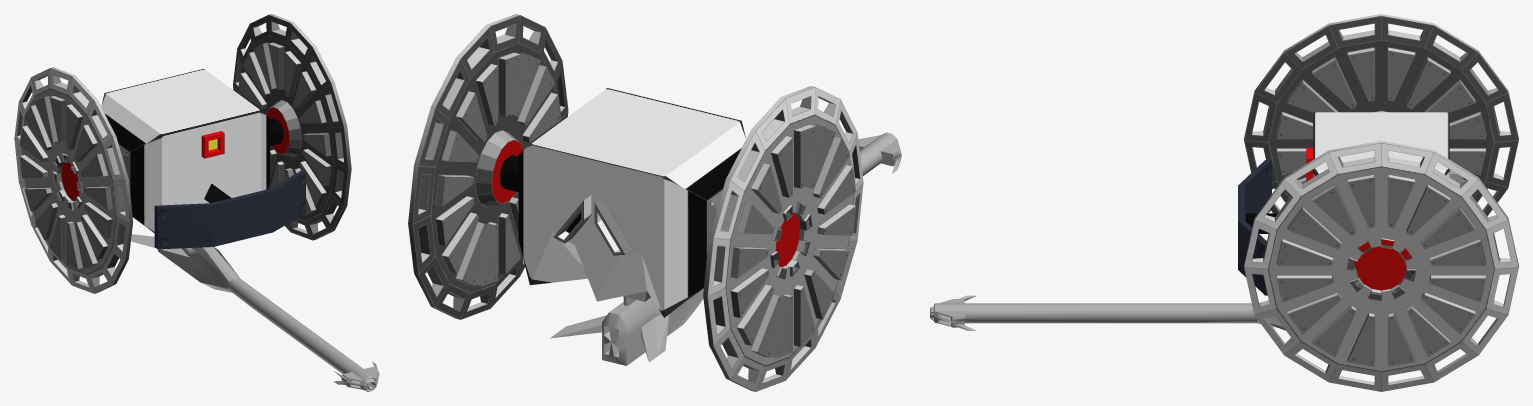
3 views of the same model, side by side, from view 1: azimuth 30°, elevation 25°; view 2: azimuth 150°, elevation 25°; view 3: azimuth 270°, elevation 25° (orthographic). The views are drawn at different scales.
Visible parts, largest first — view 1: Box001, Cylinder002, Cylinder001, Tube001; view 2: Box001, Cylinder002, Cylinder001, Tube001; view 3: Cylinder001, Cylinder002, Box001, Tube001.
Boxes of the visible parts, left/top/right/bottom form: Box001: left=101, top=69, right=305, bottom=249; Cylinder002: left=14, top=67, right=133, bottom=293; Cylinder001: left=233, top=14, right=351, bottom=240; Tube001: left=131, top=234, right=379, bottom=391; Box001: left=500, top=88, right=746, bottom=317; Cylinder002: left=703, top=86, right=863, bottom=391; Cylinder001: left=408, top=14, right=568, bottom=319; Tube001: left=550, top=132, right=901, bottom=365; Cylinder001: left=1244, top=141, right=1518, bottom=391; Cylinder002: left=1244, top=14, right=1518, bottom=216; Box001: left=1238, top=112, right=1463, bottom=295; Tube001: left=930, top=295, right=1285, bottom=330.
Size of the model in its own units: 2.4 by 2.03 by 4.31.
3 materials, 2 textured.
